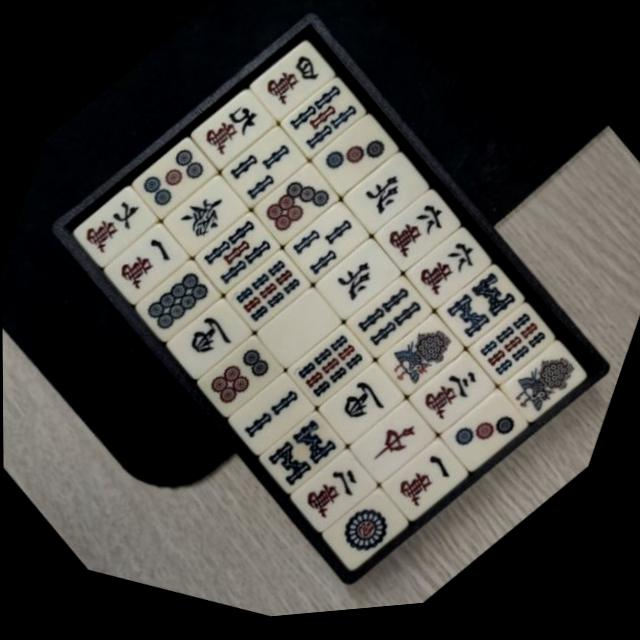hdg: (162, 164, 252, 264)
hdr: (349, 396, 441, 498)
hdw: (255, 279, 346, 379)
hwn: (314, 232, 406, 333), (343, 147, 432, 246)
hww: (163, 287, 256, 389), (318, 358, 410, 458)
sb1: (371, 304, 472, 415), (495, 336, 593, 445)
sb2: (224, 361, 321, 469)
sb3: (279, 190, 376, 298), (217, 113, 313, 221)
sb4: (342, 266, 439, 375)
sb5: (277, 66, 373, 172), (193, 201, 286, 304)
sb8: (254, 401, 353, 508), (433, 258, 530, 365)
sb9: (284, 316, 379, 421), (467, 300, 561, 403), (224, 240, 316, 341)
sc1: (382, 436, 474, 538), (105, 212, 193, 310)
sc2: (290, 443, 383, 545)
sc3: (408, 347, 500, 450)
sc4: (249, 31, 339, 131)
sc6: (370, 182, 466, 287), (403, 220, 497, 324)
sc7: (72, 174, 163, 274)
sc9: (189, 77, 281, 179)
sd1: (316, 480, 415, 589)
sd3: (310, 106, 404, 208), (440, 387, 533, 489)
sd5: (128, 122, 224, 228)
sd6: (196, 326, 289, 428)
sd7: (248, 150, 348, 260)
sd8: (131, 247, 226, 353)
